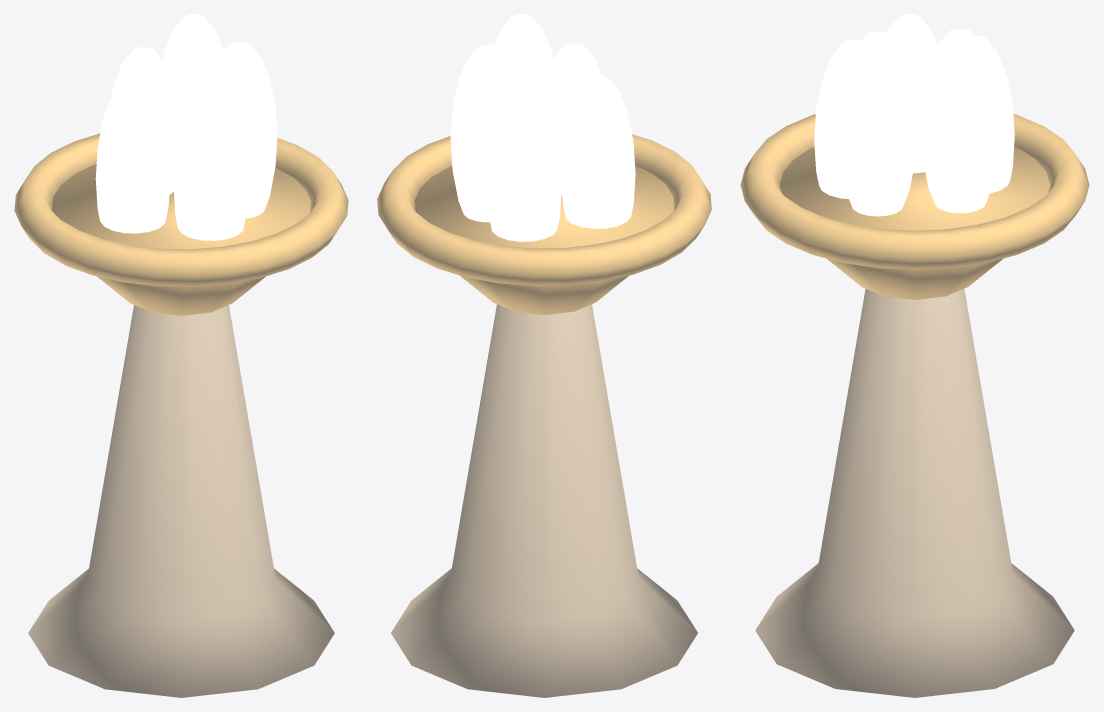
The model's file is castle_detail_brazier_purified.glb.
3 renders of one model, left to right at view 1: azimuth 30°, elevation 25°; view 2: azimuth 150°, elevation 25°; view 3: azimuth 270°, elevation 25°, orthographic. The views are drawn at different scales.
Parts seen in each view (by area): view 1: castle_detail_brazier_purified_surface; view 2: castle_detail_brazier_purified_surface; view 3: castle_detail_brazier_purified_surface.
Boxes of the visible parts, x1,y1,x2,y2 form: castle_detail_brazier_purified_surface: (14, 14, 348, 697); castle_detail_brazier_purified_surface: (377, 14, 711, 697); castle_detail_brazier_purified_surface: (740, 14, 1089, 697).
Bounding box in the file's own units: 1.42 × 2.78 × 1.42.
